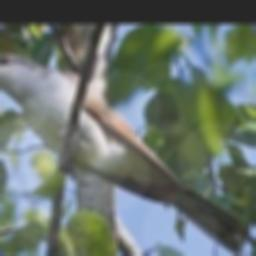Cuckoo: (0, 52, 250, 254)
